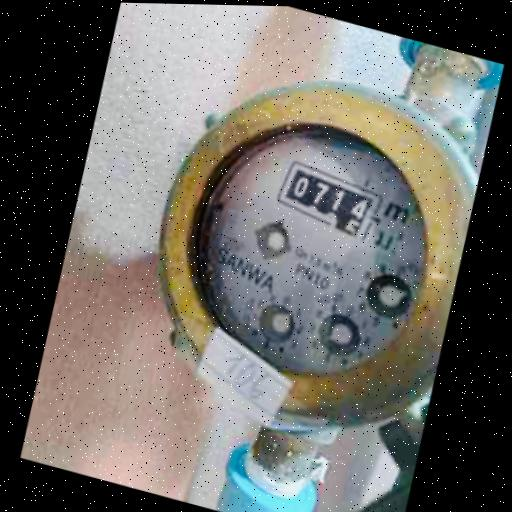0: (284, 167, 318, 207)
1: (320, 181, 354, 224)
4: (333, 187, 377, 241)
7: (302, 174, 337, 216)
border_water_meter_number: (271, 152, 392, 245)
